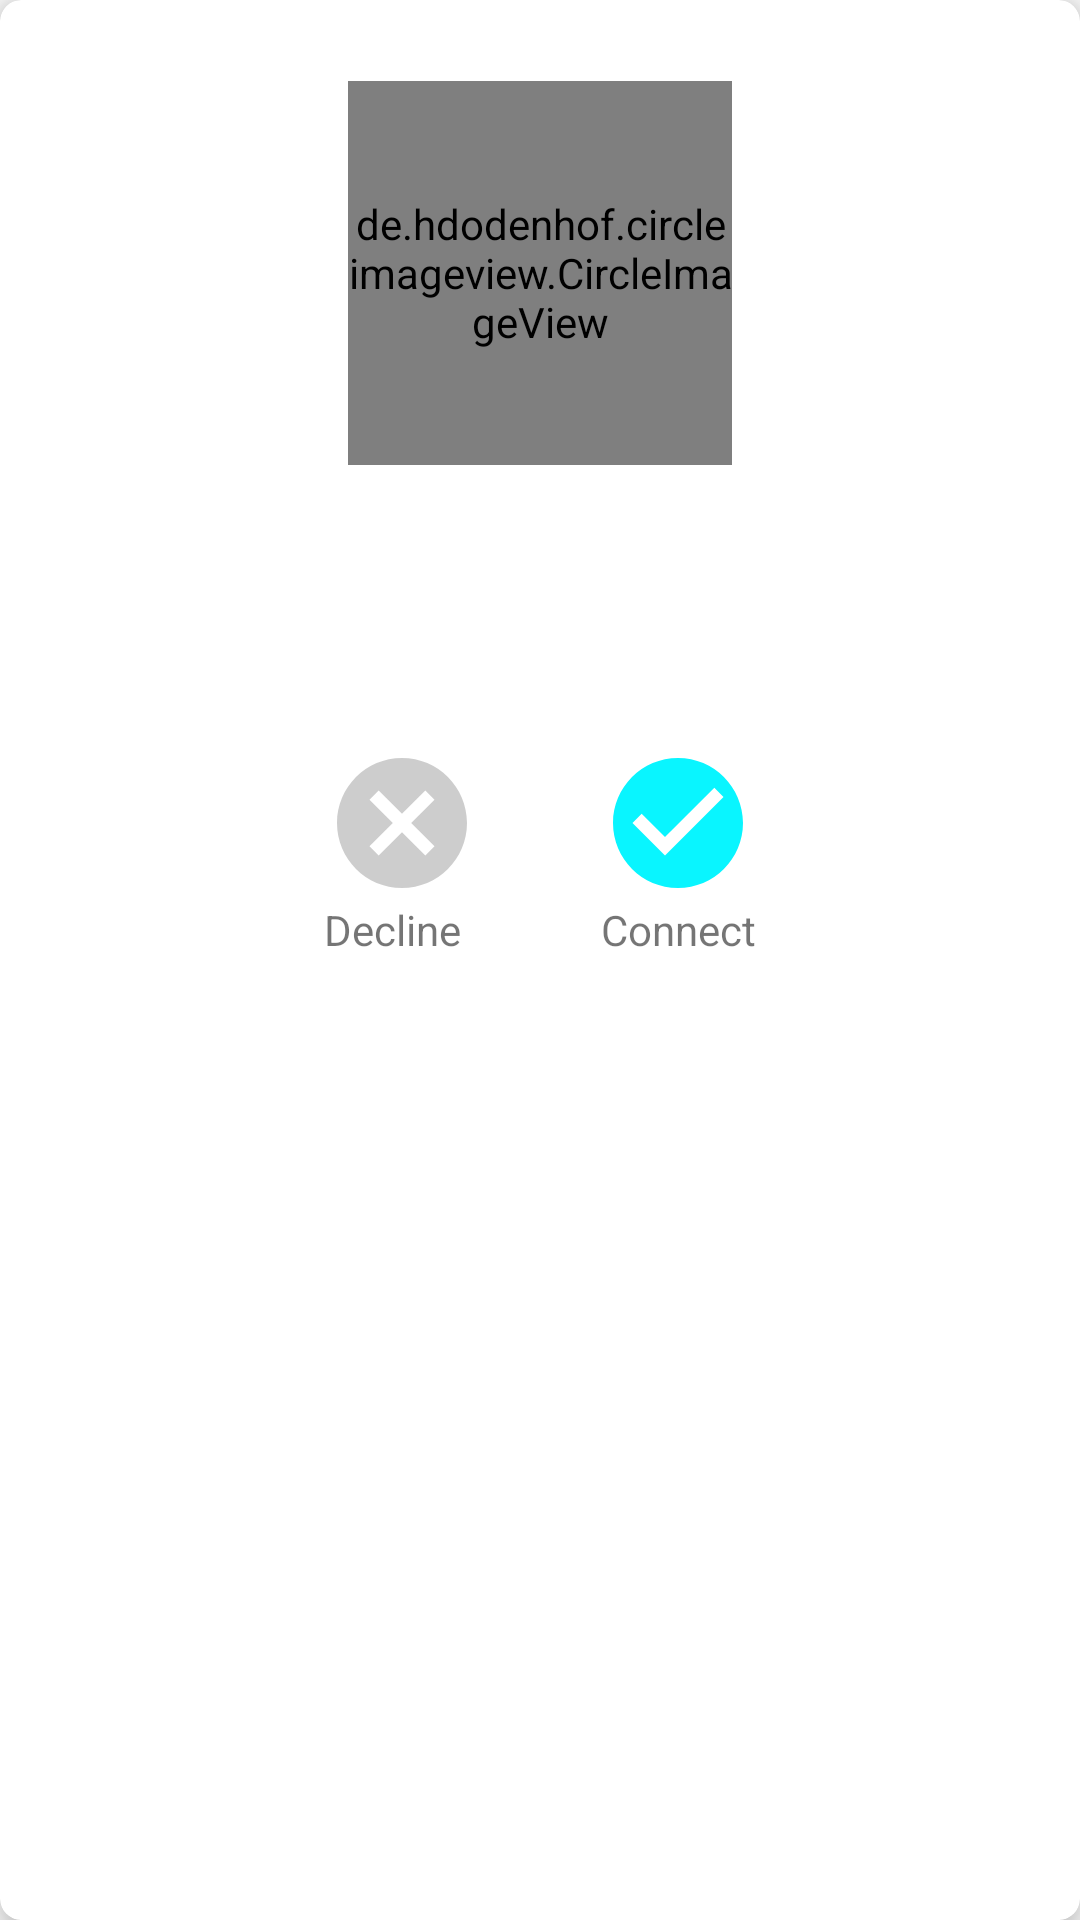

Where icons sit on this 1080px x 1920px app screen, as (left=x1, top=y1, right=x2, bottom=y2):
check cancel: (left=337, top=758, right=467, bottom=888)
check ok: (left=613, top=758, right=743, bottom=888)
